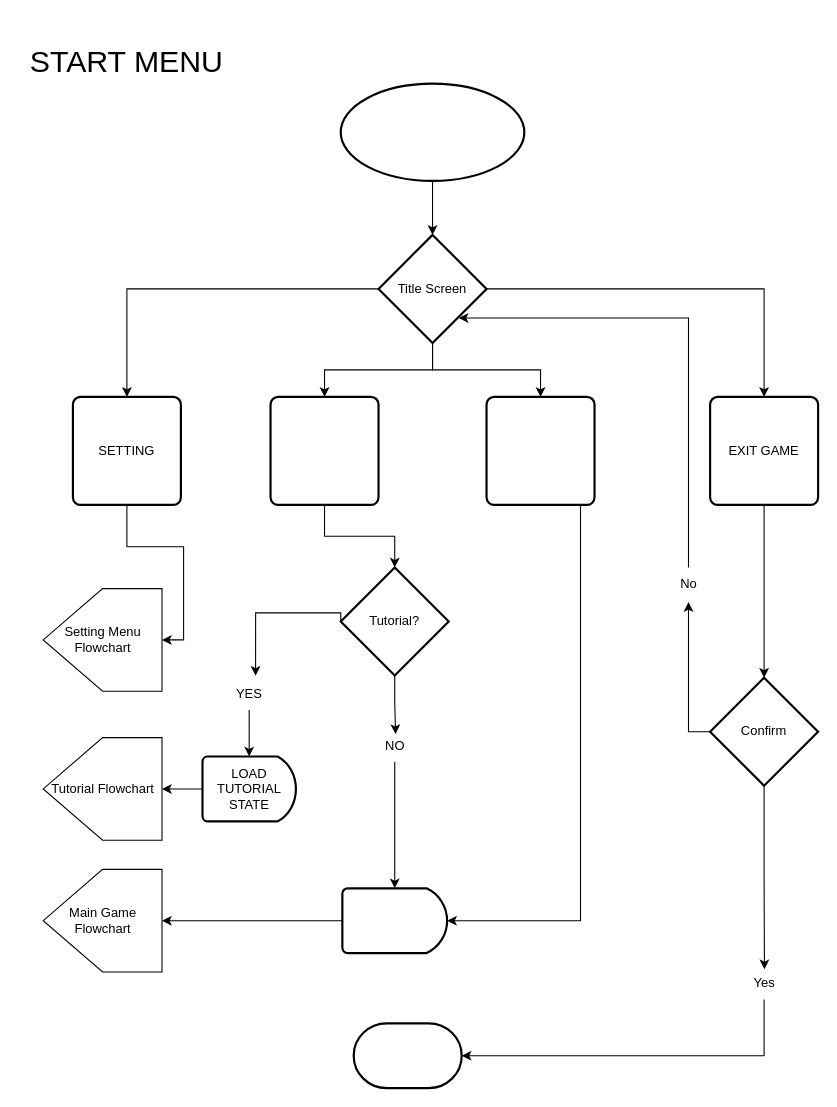
This 837x1107 diagram has some shape labels left out. Each missing label, with the box of its shape:
Exit Application: (352, 1022, 462, 1089)
LOAD GAME: (485, 395, 595, 505)
LOAD MAIN GAME: (341, 887, 448, 954)
NEW GAME: (269, 395, 379, 505)
Start Menu Scene: (339, 82, 525, 181)
